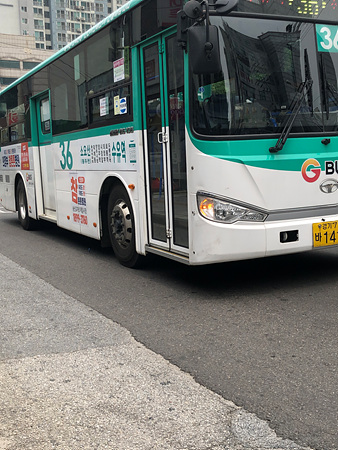entrance: (135, 27, 195, 260)
